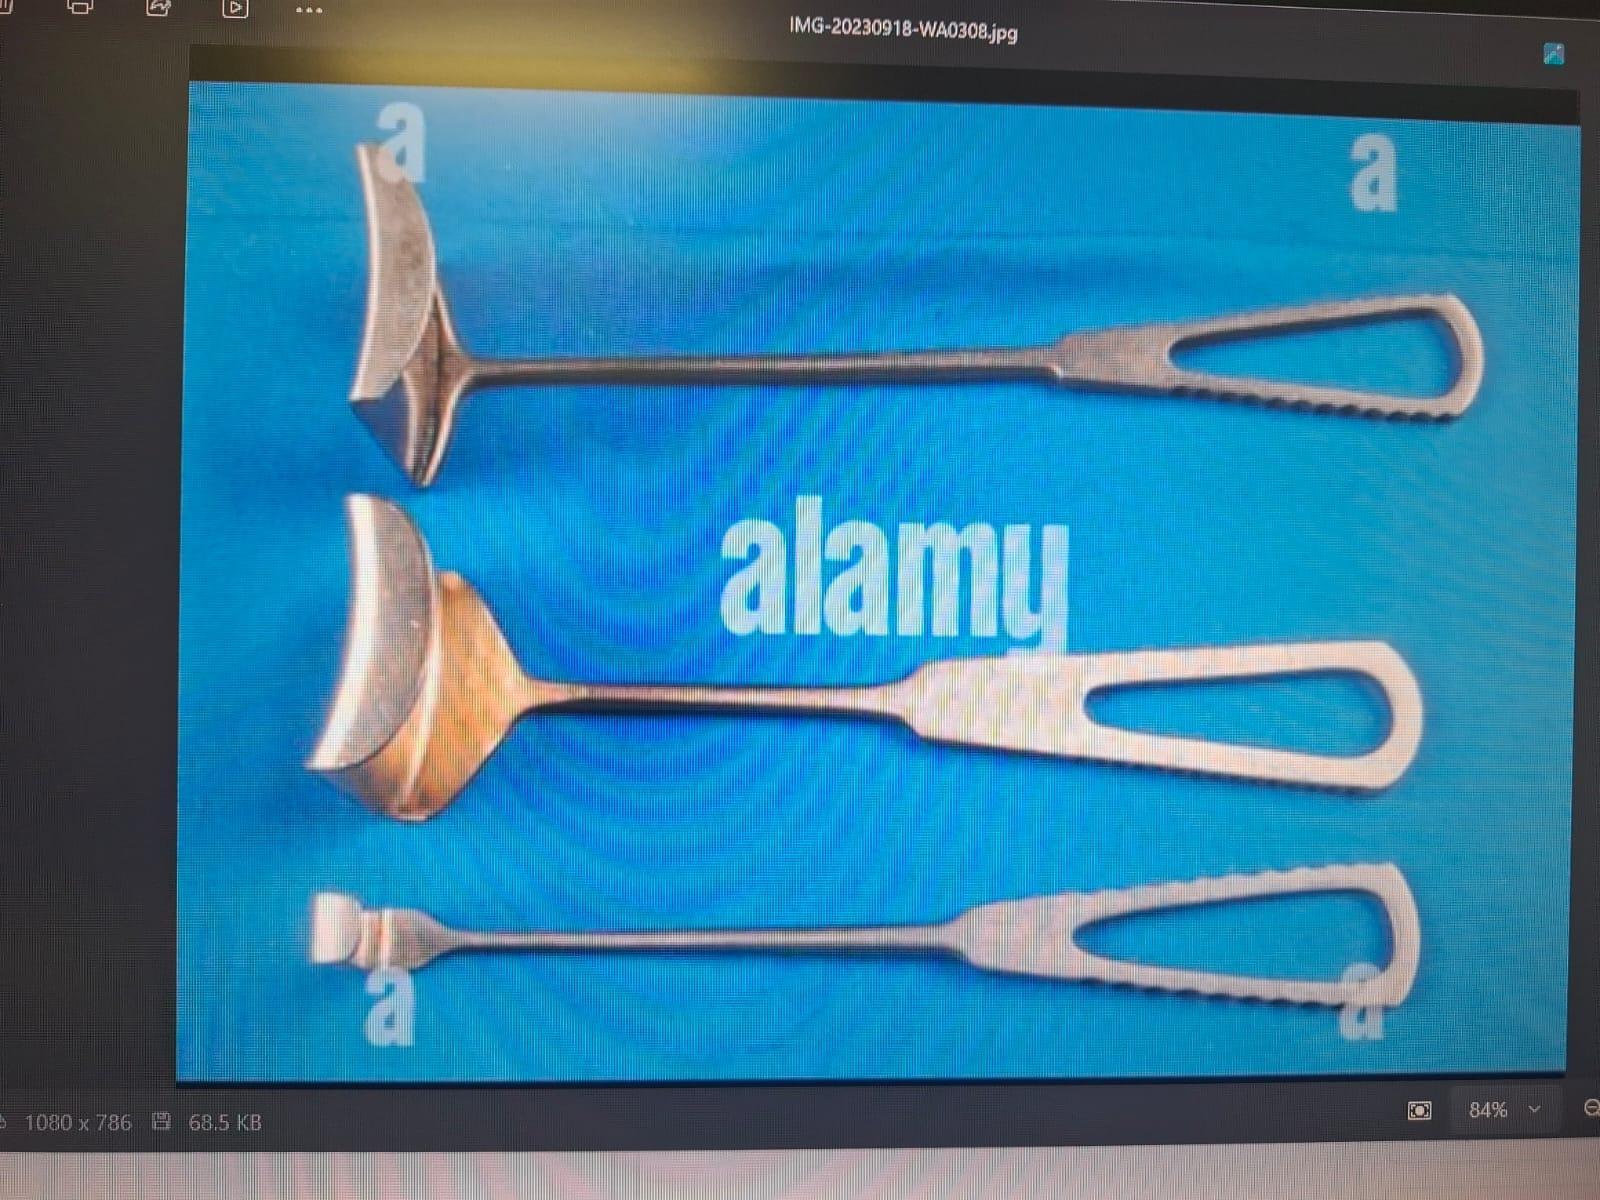Morris Retractor: (330, 116, 1480, 488), (289, 478, 1427, 822)
